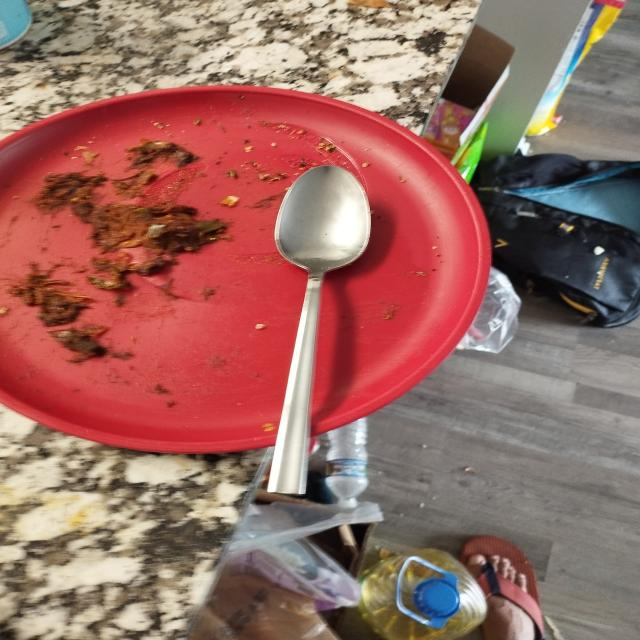Spoon: (257, 148, 388, 503)
